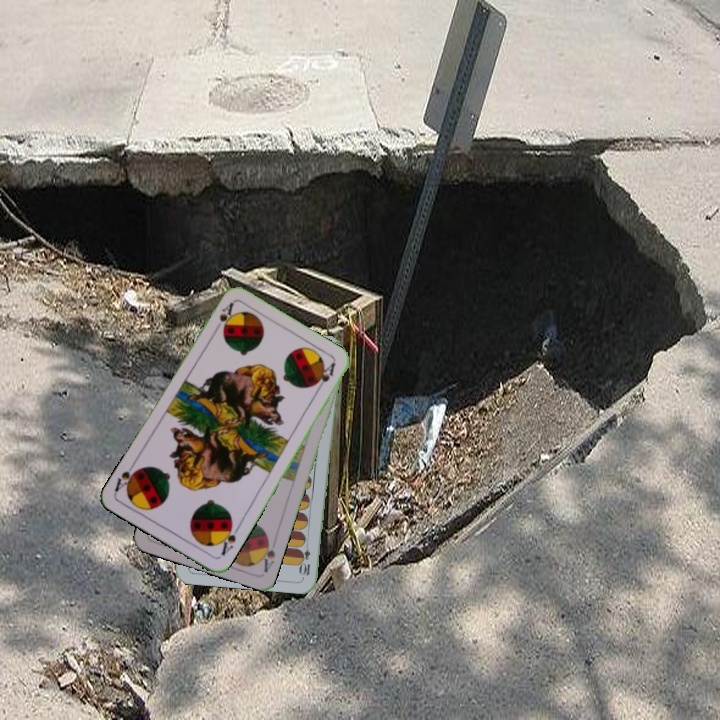E10: (298, 537, 313, 578)
SA: (215, 519, 242, 558), (210, 298, 237, 336), (256, 533, 279, 575)
